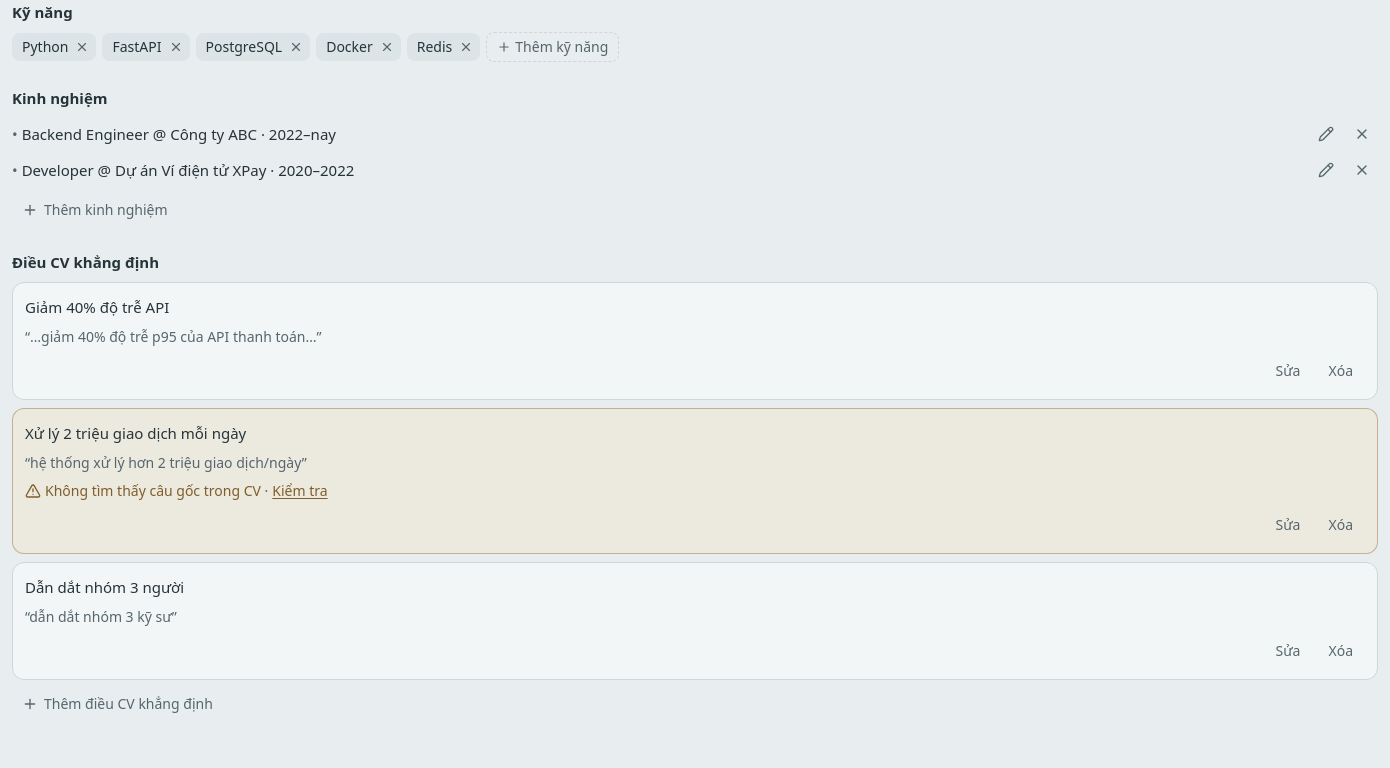
Test: ProfileEditor › keeps the edits when saving fails, and can discard them
The image size is (1390, 768).
Click the button named "Xóa Python" at (82, 47), box [72,37,92,57]
(page scrolled)
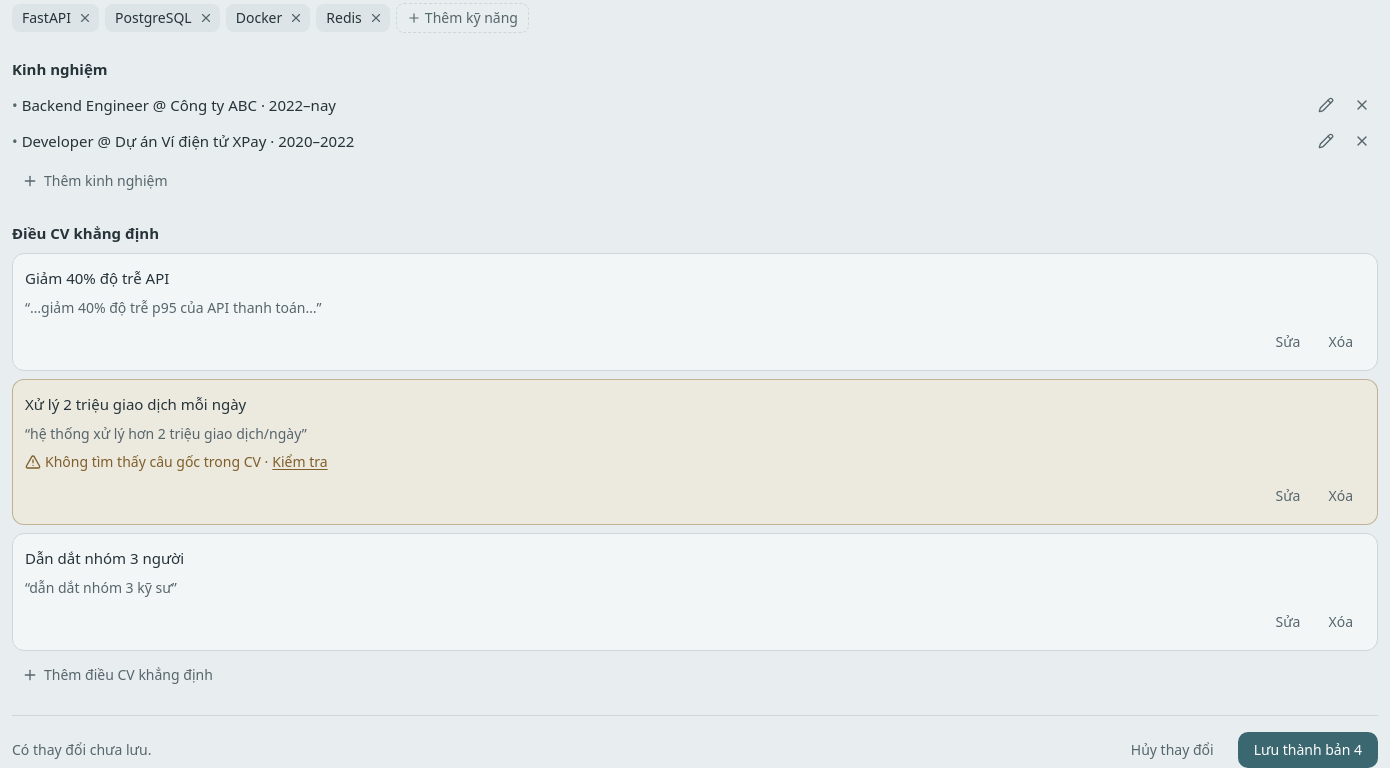
Click the button "Lưu thành bản 4" at (1308, 750), box [1238,732,1378,767]
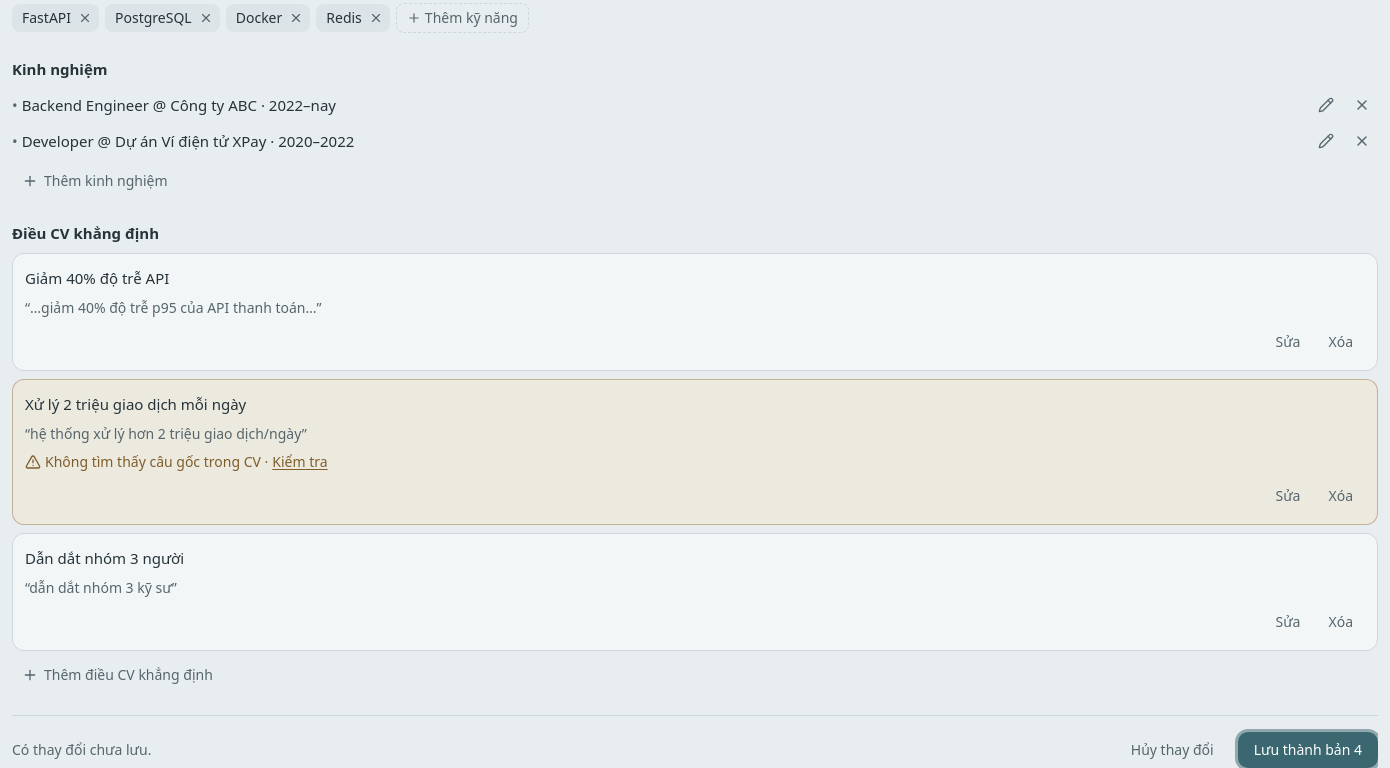
Expected: the text "Python" is not shown
Click the button "Hủy thay đổi" at (1172, 750), box [1115,732,1230,767]
(page scrolled)
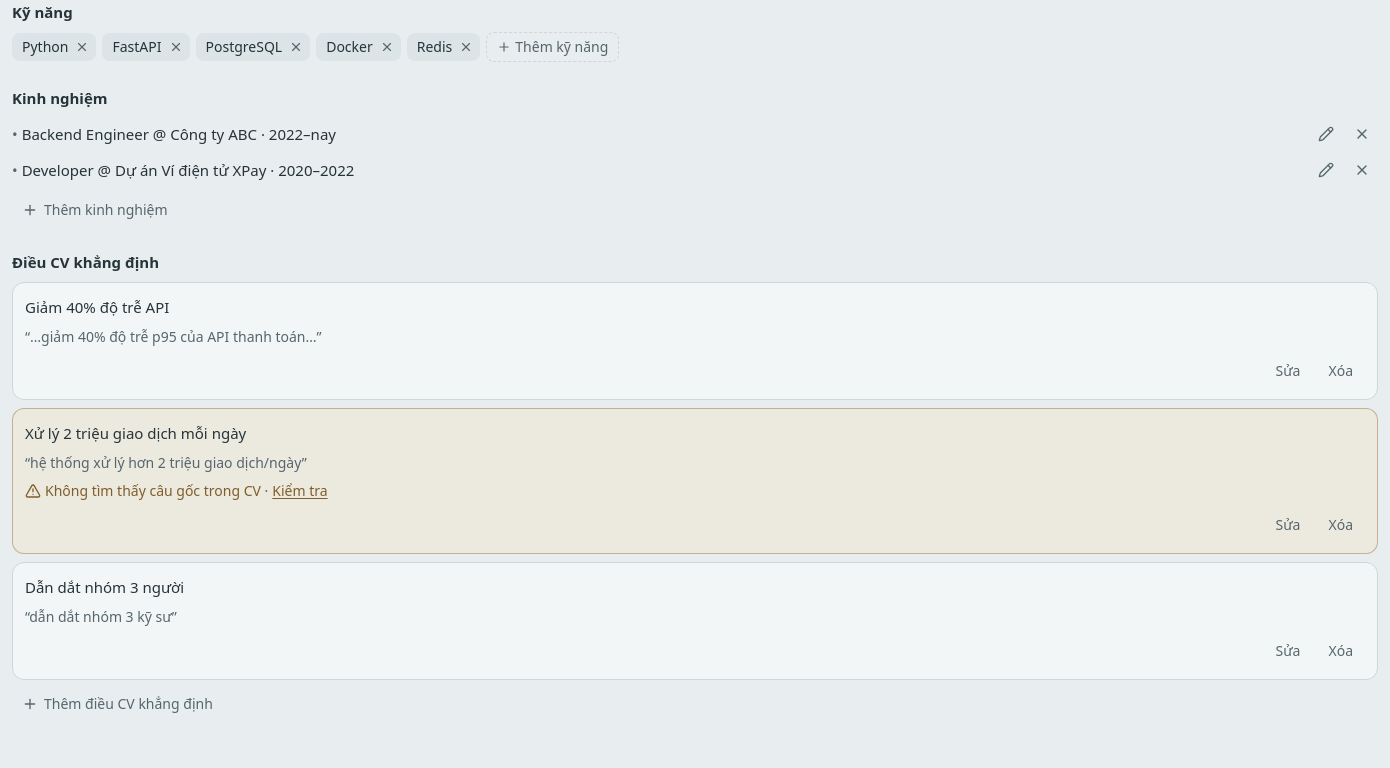
Now the text "Python" is shown, box [12,33,96,61]
